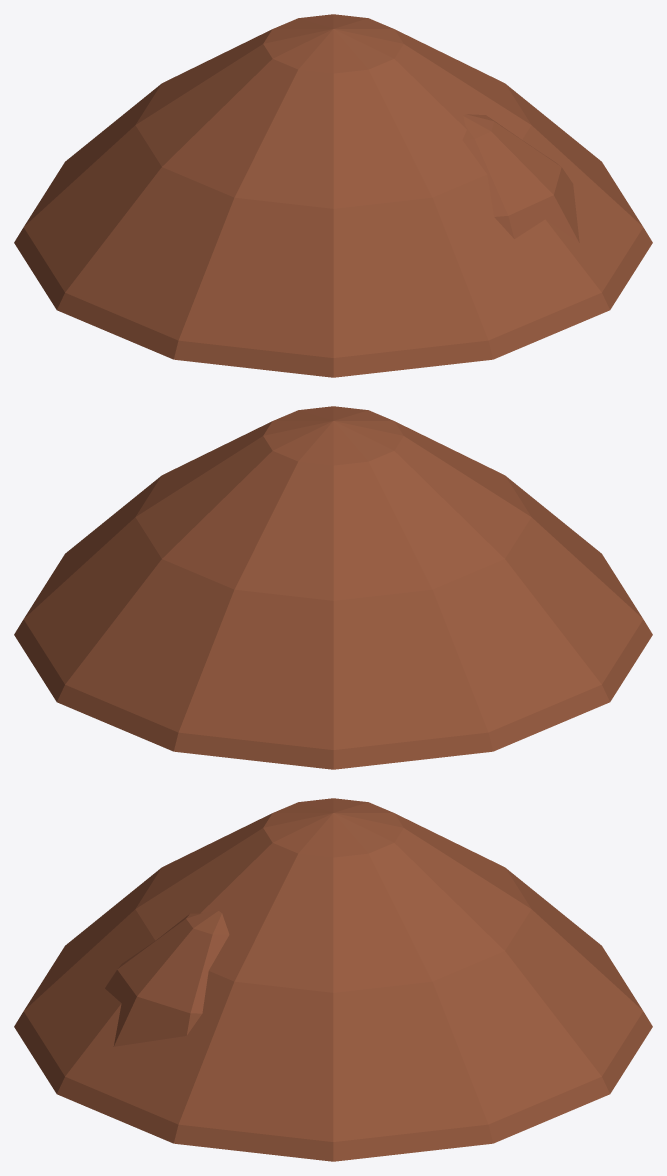
File: pile_ore_b.glb
3 renders of one model, top to bottom at view 1: azimuth 30°, elevation 25°; view 2: azimuth 150°, elevation 25°; view 3: azimuth 270°, elevation 25°, orthographic.
Visible parts, largest first — view 1: pile_ore_b; view 2: pile_ore_b; view 3: pile_ore_b.
Part boxes in pixels (x1,y1,x2,y2): pile_ore_b: [14, 14, 652, 377]; pile_ore_b: [14, 406, 652, 769]; pile_ore_b: [14, 798, 652, 1161].
Bounding box in the file's own units: 13 × 4.8 × 13.
